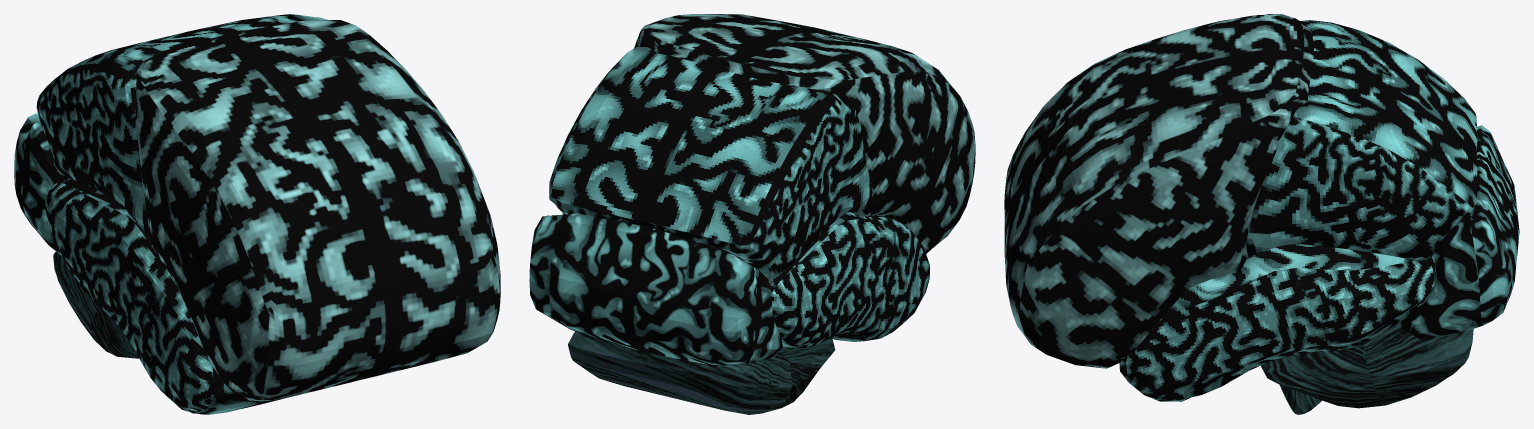
The model's file is BossF.fbx.
3 renders of one model, left to right at view 1: azimuth 30°, elevation 25°; view 2: azimuth 150°, elevation 25°; view 3: azimuth 270°, elevation 25°, orthographic. The views are drawn at different scales.
Visible parts, largest first — view 1: frontal.001, ., parietal.001, Occipital.001, Cerebelo.001; view 2: parietal.001, frontal.001, Occipital.001, ., Cerebelo.001; view 3: frontal.001, parietal.001, ., Occipital.001, Cerebelo.001.
Boxes of the visible parts, bbox=[...] form: frontal.001: bbox=[135, 20, 500, 401]; .: bbox=[45, 177, 289, 414]; parietal.001: bbox=[36, 14, 327, 234]; Occipital.001: bbox=[14, 112, 67, 255]; Cerebelo.001: bbox=[53, 251, 139, 358]; parietal.001: bbox=[549, 47, 872, 280]; frontal.001: bbox=[634, 14, 975, 253]; Occipital.001: bbox=[529, 213, 782, 366]; .: bbox=[768, 212, 929, 348]; Cerebelo.001: bbox=[568, 331, 835, 414]; frontal.001: bbox=[1004, 14, 1314, 368]; parietal.001: bbox=[1246, 20, 1477, 260]; .: bbox=[1119, 244, 1435, 401]; Occipital.001: bbox=[1396, 125, 1519, 339]; Cerebelo.001: bbox=[1261, 325, 1473, 414].
Size of the model in its own units: 267 by 336 by 449.
Materials: 5 (5 with a texture image).
